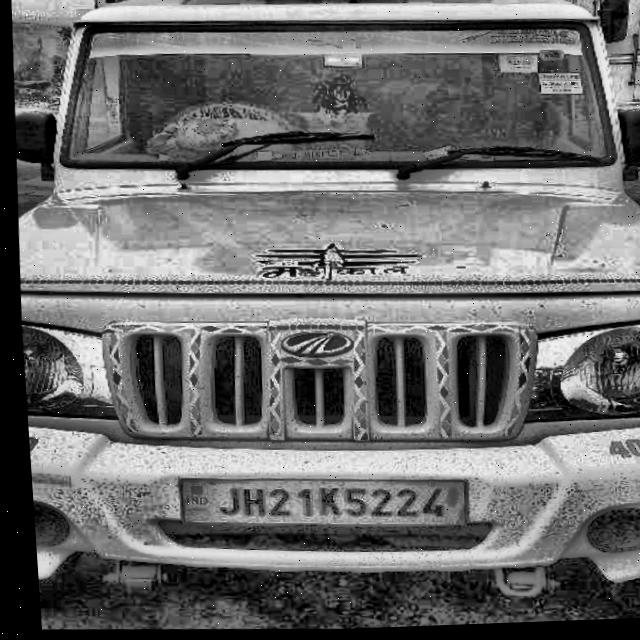light_vehicle: (1, 0, 640, 605)
